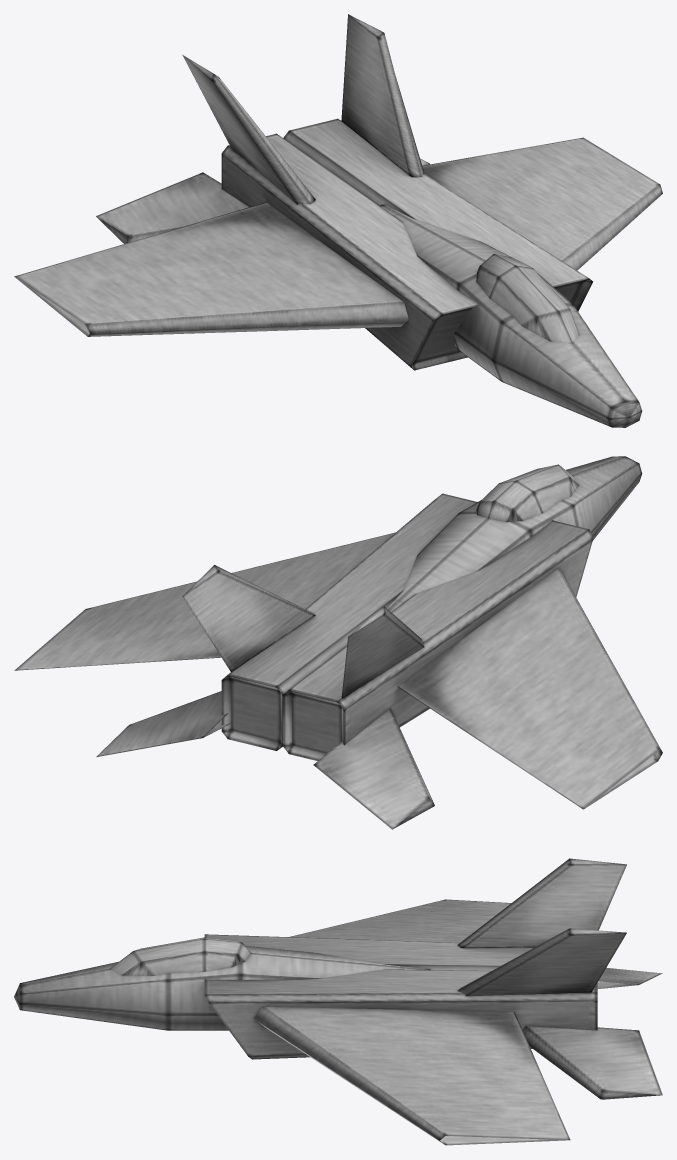
Rendered from forma.obj.
The picture shows the model from 3 angles, top to bottom: view 1: azimuth 30°, elevation 25°; view 2: azimuth 150°, elevation 25°; view 3: azimuth 270°, elevation 25°; orthographic projection. The views are drawn at different scales.
Visible parts, largest first — view 1: object_2, object_13, object_3, object_1, object_9, object_4, object_8, object_7, object_5, object_11; view 2: object_2, object_13, object_3, object_1, object_4, object_9, object_7, object_10, object_12, object_8, object_6; view 3: object_3, object_13, object_1, object_7, object_12, object_9, object_2, object_8, object_4.
Part boxes in pixels (box(x1,y1,x2,y2)): object_2: box(14, 202, 408, 336); object_13: box(221, 118, 589, 366); object_3: box(422, 137, 662, 270); object_1: box(379, 204, 642, 427); object_9: box(341, 14, 424, 177); object_4: box(96, 172, 248, 243); object_8: box(476, 254, 579, 342); object_7: box(182, 55, 315, 204); object_5: box(410, 306, 476, 370); object_11: box(554, 278, 592, 311); object_2: box(397, 568, 662, 809); object_13: box(225, 493, 593, 749); object_3: box(14, 532, 395, 670); object_1: box(387, 456, 642, 612); object_4: box(313, 708, 434, 829); object_9: box(182, 565, 315, 672); object_7: box(341, 606, 424, 698); object_10: box(221, 675, 282, 750); object_12: box(96, 691, 231, 757); object_8: box(476, 464, 579, 522); object_6: box(282, 690, 343, 760); object_3: box(253, 1006, 570, 1145); object_13: box(204, 934, 597, 1059); object_1: box(14, 946, 430, 1030); object_7: box(457, 858, 626, 947); object_12: box(522, 1026, 662, 1099); object_9: box(458, 928, 626, 996); object_2: box(289, 899, 511, 942); object_8: box(110, 937, 250, 975); object_4: box(597, 968, 662, 988).
Size of the model in its own units: 0.8619 by 0.2484 by 1.
Materials: 1 (1 with a texture image).
